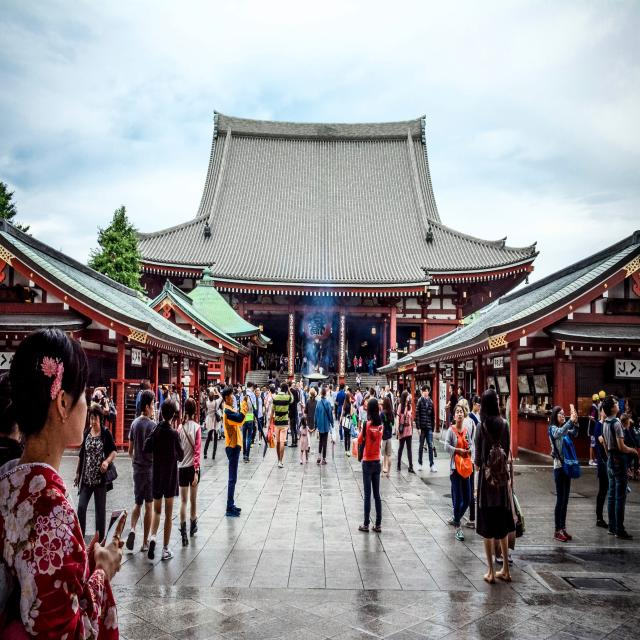adult: (0, 331, 139, 640), (472, 389, 512, 586), (144, 399, 184, 559), (74, 404, 118, 540), (544, 391, 584, 539), (602, 396, 638, 537), (438, 403, 480, 522), (126, 389, 156, 551), (354, 396, 383, 540), (177, 398, 201, 546), (224, 388, 247, 517), (268, 382, 295, 468), (416, 385, 437, 472), (314, 388, 333, 466), (396, 391, 414, 472), (204, 387, 222, 459), (379, 398, 395, 474), (338, 393, 354, 457), (298, 416, 315, 464)
